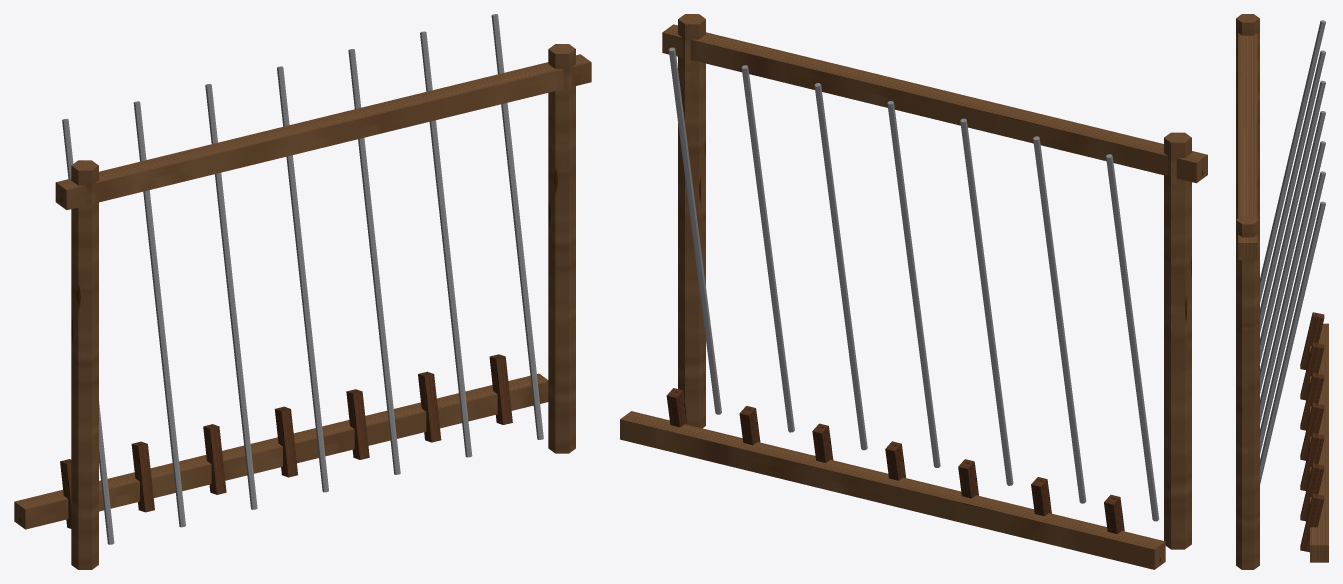
The model's file is musket_rack.glb.
3 views of the same model, side by side, from view 1: azimuth 30°, elevation 25°; view 2: azimuth 150°, elevation 25°; view 3: azimuth 270°, elevation 25° (orthographic). The views are drawn at different scales.
Visible parts, largest first — view 1: Musket_Rack; view 2: Musket_Rack; view 3: Musket_Rack.
Boxes of the visible parts, <box> form: Musket_Rack: <box>14,14,591,569</box>; Musket_Rack: <box>620,14,1207,569</box>; Musket_Rack: <box>1236,14,1328,569</box>.
Bounding box in the file's own units: 2.2 × 1.63 × 0.39.
Materials: 3 (2 with a texture image).
